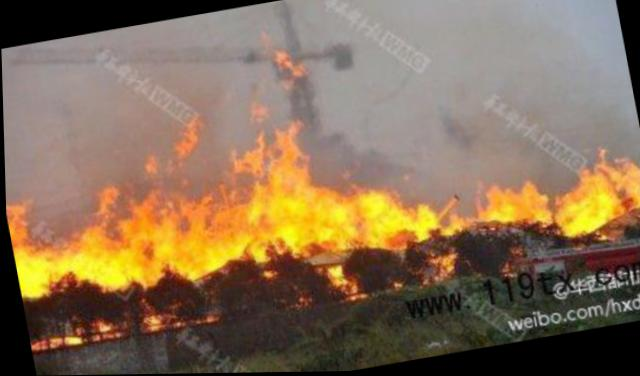fire: (159, 195, 249, 273), (239, 180, 319, 256), (311, 179, 383, 253), (64, 219, 128, 292), (115, 207, 172, 283), (575, 155, 639, 219), (470, 178, 548, 229), (550, 180, 619, 235), (256, 126, 310, 188), (369, 182, 411, 235), (11, 240, 46, 295), (227, 143, 269, 180), (119, 180, 163, 213), (165, 119, 201, 157), (405, 202, 438, 243), (39, 239, 72, 273), (5, 201, 25, 244), (28, 331, 75, 348), (93, 182, 116, 213), (437, 214, 465, 236), (426, 251, 454, 272), (322, 264, 344, 288), (136, 309, 161, 330), (337, 275, 352, 293), (92, 317, 106, 329)
